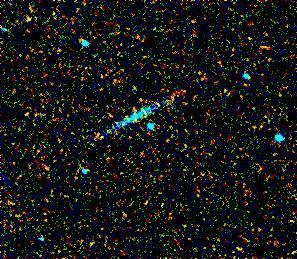star: (124, 86, 154, 116)
